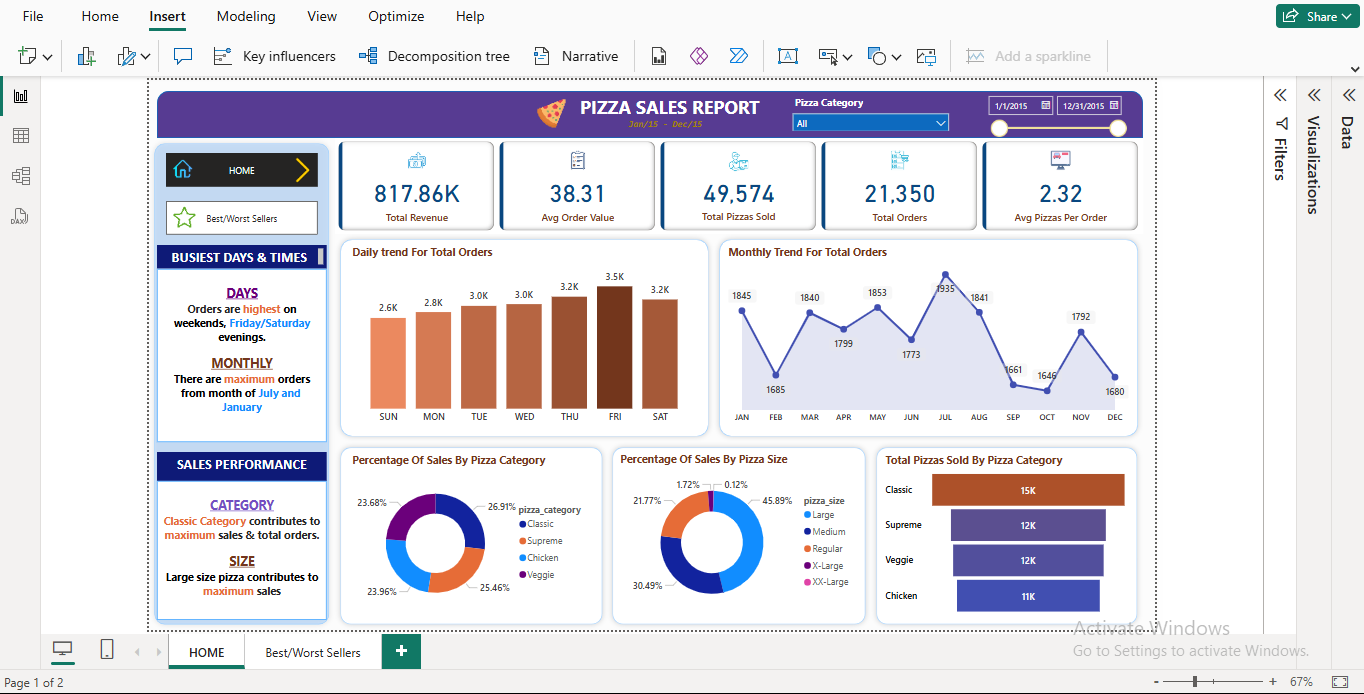

Layout of this report page (visuals, bound fields, positions):
{"tool":"powerbi","page":{"name":"HOME","canvas":[1500,820],"ordinal":0},"visuals":[{"type":"cardVisual","fields":{"Data":["pizza_sales.Total Revenue","pizza_sales.Avg Order Value","pizza_sales.Total Pizzas Sold","pizza_sales.Total Orders","pizza_sales.Avg Pizzas Per Order"]},"box":[276.7,86.7,1205,143.3],"z":0},{"type":"shape","box":[11.7,16.7,1470,70],"z":1000},{"type":"textbox","box":[276.7,16.7,998.3,46.7],"z":2000},{"type":"textbox","box":[646.7,50,245,36.7],"z":3000},{"type":"image","box":[566.7,21.7,66.7,55],"z":4000},{"type":"shape","box":[276.7,230,565,310],"z":5000},{"type":"columnChart","title":"Daily trend For Total Orders","fields":{"Category":["pizza_sales.Order Day"],"Y":["pizza_sales.Total Orders"]},"box":[298.3,246.7,523.3,275],"z":6000},{"type":"shape","box":[841.7,230,640,310],"z":7000},{"type":"areaChart","title":"Monthly Trend For Total Orders","fields":{"Y":["pizza_sales.Total Orders"],"Category":["pizza_sales.Order Month"]},"box":[858.3,246.7,606.7,275],"z":8000},{"type":"shape","box":[276.7,540,406.7,280],"z":9000},{"type":"shape","box":[683.3,540,393.3,280],"z":10000},{"type":"shape","box":[1076.7,540,405,280],"z":11000},{"type":"donutChart","title":"Percentage Of Sales By Pizza Category","fields":{"Category":["pizza_sales.pizza_category"],"Y":["pizza_sales.Total Revenue"]},"box":[298.3,556.7,366.7,248.3],"z":12000},{"type":"donutChart","title":"Percentage Of Sales By Pizza Size","fields":{"Y":["pizza_sales.Total Revenue"],"Category":["pizza_sales.pizza_size"]},"box":[698.3,555,363.3,248.3],"z":13000},{"type":"funnel","title":"Total Pizzas Sold By Pizza Category","fields":{"Category":["pizza_sales.pizza_category"],"Y":["pizza_sales.Total Pizzas Sold"]},"box":[1093.3,556.7,371.7,246.7],"z":14000},{"type":"shape","box":[0,86.7,276.7,733.3],"z":15000},{"type":"textbox","box":[11.7,246.7,253.3,35],"z":16000},{"type":"textbox","box":[11.7,281.7,253.3,258.3],"z":17000},{"type":"textbox","box":[11.7,555,253.3,43.3],"z":18000},{"type":"textbox","box":[11.7,598.3,253.3,206.7],"z":19000},{"type":"slicer","fields":{"Values":["pizza_sales.pizza_category"]},"box":[950,18.3,253.3,58.3],"z":20000},{"type":"slicer","fields":{"Values":["pizza_sales.order_date"]},"box":[1238.3,0,226.7,86.7],"z":21000},{"type":"pageNavigator","box":[25,108.3,226.7,50],"z":21001},{"type":"pageNavigator","box":[25,180,226.7,50],"z":21002},{"type":"image","box":[205,108.3,46.7,50],"z":21003},{"type":"image","box":[25,113.3,50,38.3],"z":21004},{"type":"image","box":[31.7,178.3,43.3,51.7],"z":21005}]}

Visuals, with their boxes on the page's 1500x820 design canvas (x1, y1, x2, y2). These are canvas units, not pixel positions in the 1364x694 screenshot, which may show the page scaled, cropped or inside an application window:
cardVisual - pizza_sales.Total Revenue x pizza_sales.Avg Order Value: crop(277, 87, 1482, 230)
shape: crop(12, 17, 1482, 87)
textbox: crop(277, 17, 1275, 63)
textbox: crop(647, 50, 892, 87)
image: crop(567, 22, 633, 77)
shape: crop(277, 230, 842, 540)
"Daily trend For Total Orders" columnChart: crop(298, 247, 822, 522)
shape: crop(842, 230, 1482, 540)
"Monthly Trend For Total Orders" areaChart: crop(858, 247, 1465, 522)
shape: crop(277, 540, 683, 820)
shape: crop(683, 540, 1077, 820)
shape: crop(1077, 540, 1482, 820)
"Percentage Of Sales By Pizza Category" donutChart: crop(298, 557, 665, 805)
"Percentage Of Sales By Pizza Size" donutChart: crop(698, 555, 1062, 803)
"Total Pizzas Sold By Pizza Category" funnel: crop(1093, 557, 1465, 803)
shape: crop(0, 87, 277, 820)
textbox: crop(12, 247, 265, 282)
textbox: crop(12, 282, 265, 540)
textbox: crop(12, 555, 265, 598)
textbox: crop(12, 598, 265, 805)
slicer - pizza_sales.pizza_category: crop(950, 18, 1203, 77)
slicer - pizza_sales.order_date: crop(1238, 0, 1465, 87)
pageNavigator: crop(25, 108, 252, 158)
pageNavigator: crop(25, 180, 252, 230)
image: crop(205, 108, 252, 158)
image: crop(25, 113, 75, 152)
image: crop(32, 178, 75, 230)
